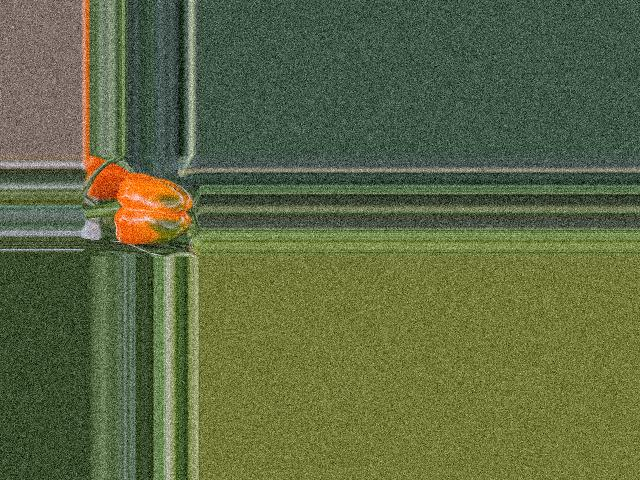bell_pepper: (105, 170, 198, 254)
